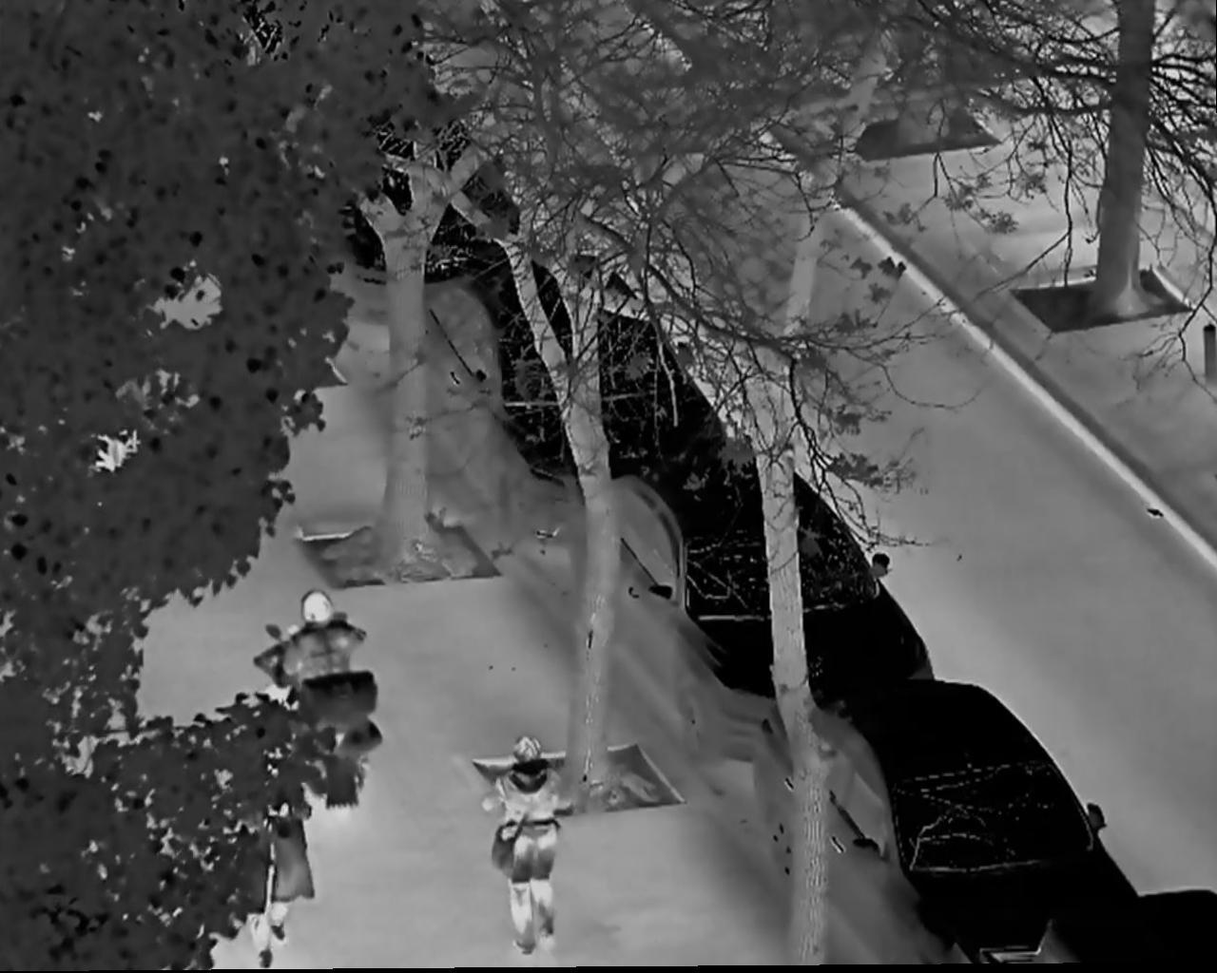person: (479, 735, 570, 952), (260, 589, 377, 746), (241, 742, 316, 973)
